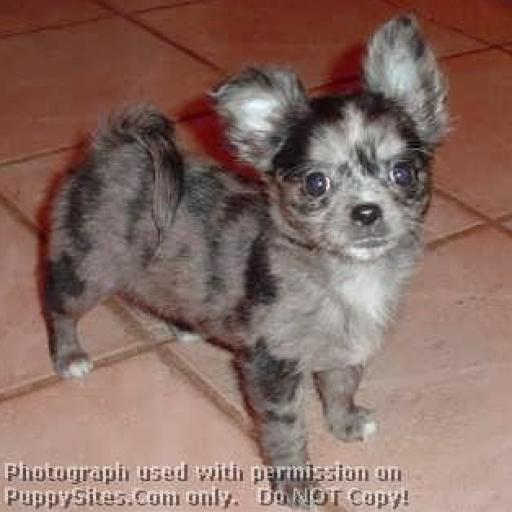dog_face: (220, 36, 455, 259)
